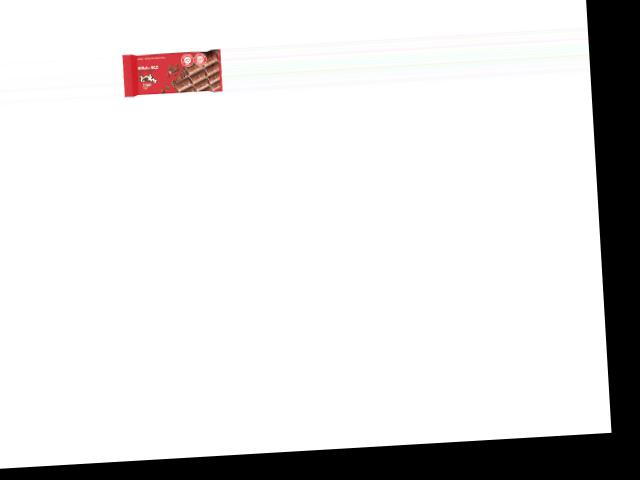chocolate: (120, 48, 222, 97)
